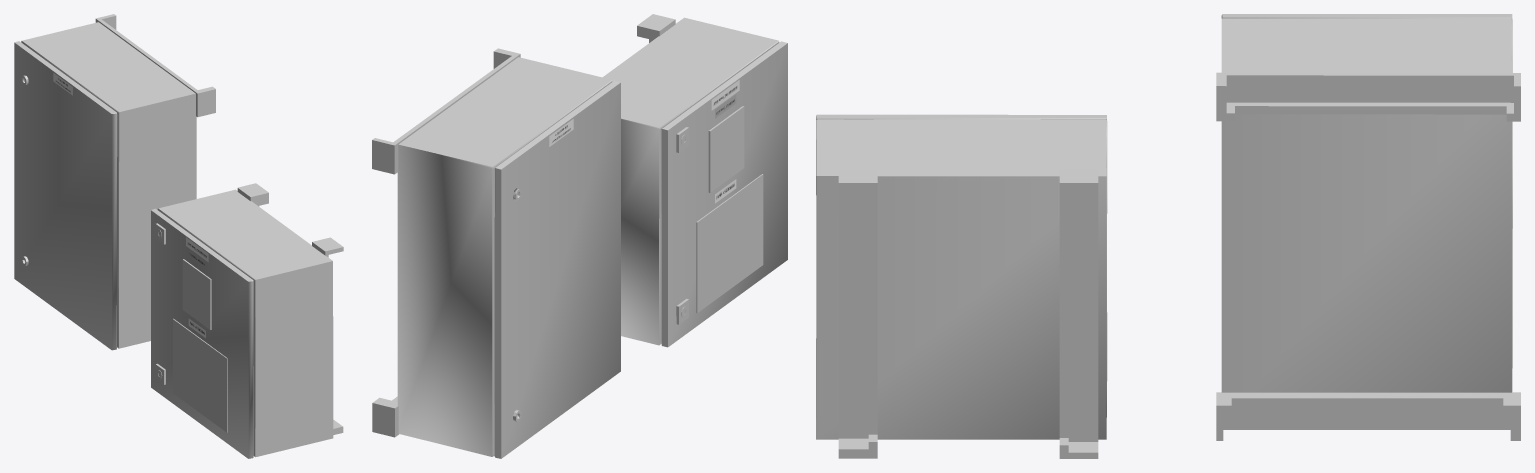
Rendered from GabCon.fbx.
The picture shows the model from 3 angles, left to right: view 1: azimuth 30°, elevation 25°; view 2: azimuth 150°, elevation 25°; view 3: azimuth 270°, elevation 25°; orthographic projection. The views are drawn at different scales.
Parts seen in each view (by area): view 1: AA10-01.001, ANTY ROLLING SYSTEM, Cubo.004, Cubo.003, AA10-01.003, AA10-01.008; view 2: AA10-01.001, ANTY ROLLING SYSTEM, Cubo.004, AA10-01.003, Cubo.003, AA10-01.008; view 3: AA10-01.001, ANTY ROLLING SYSTEM, AA10-01.003, AA10-01.008.
Part boxes in pixels (x1,y1,x2,y2): AA10-01.001: (14, 22, 196, 350); ANTY ROLLING SYSTEM: (151, 189, 333, 458); Cubo.004: (173, 318, 227, 432); Cubo.003: (182, 259, 211, 329); AA10-01.003: (95, 14, 215, 117); AA10-01.008: (237, 183, 343, 434); AA10-01.001: (397, 57, 620, 458); ANTY ROLLING SYSTEM: (602, 17, 787, 347); Cubo.004: (696, 174, 763, 313); AA10-01.003: (372, 48, 520, 437); Cubo.003: (708, 106, 744, 192); AA10-01.008: (637, 14, 675, 42); AA10-01.001: (1221, 14, 1512, 392); ANTY ROLLING SYSTEM: (816, 114, 1107, 439); AA10-01.003: (1216, 72, 1520, 440); AA10-01.008: (838, 169, 1098, 458).
Size of the model in its own units: 37.03 by 84.51 by 145.
Materials: 4 (4 with a texture image).
